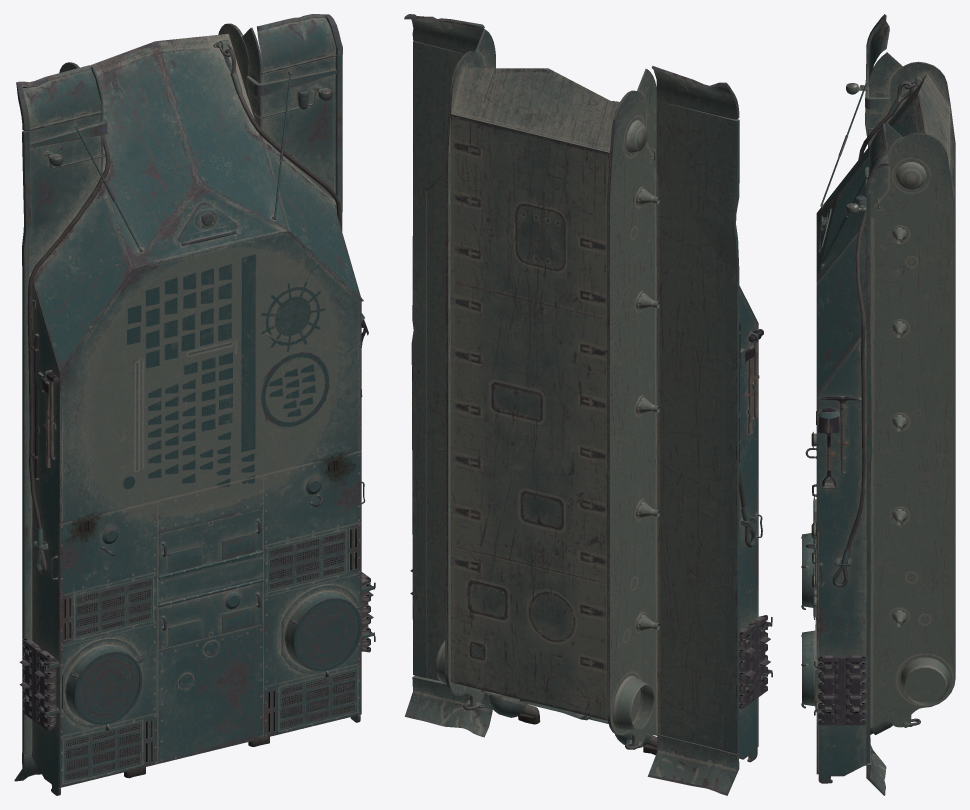
File: Hull.glb
The picture shows the model from 3 angles, left to right: view 1: azimuth 30°, elevation 25°; view 2: azimuth 150°, elevation 25°; view 3: azimuth 270°, elevation 25°; orthographic projection. The views are drawn at different scales.
Parts seen in each view (by area): view 1: set_0_group_0; view 2: set_0_group_0; view 3: set_0_group_0.
Part boxes in pixels (x1,y1,x2,y2): set_0_group_0: (14, 14, 375, 795); set_0_group_0: (404, 14, 772, 795); set_0_group_0: (801, 14, 955, 795).
Bounding box in the file's own units: 3.77 × 7.57 × 1.64.
Materials: 1 (1 with a texture image).
